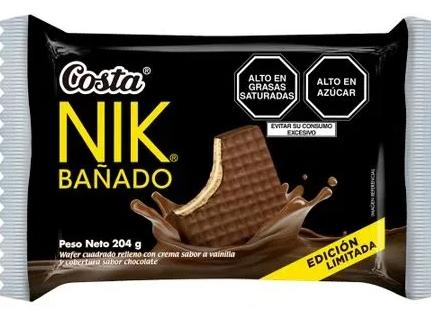brand: (53, 63, 155, 96)
extra_detail: (51, 162, 177, 193)
net_weight: (111, 233, 146, 250)
product_name: (55, 100, 176, 167)
